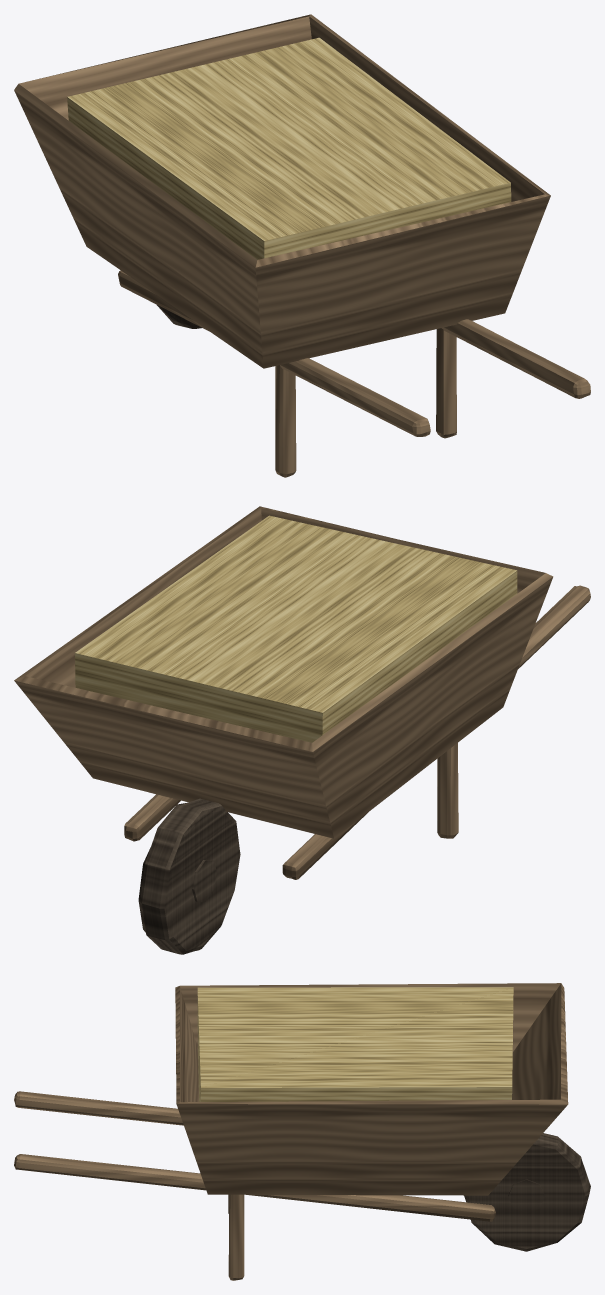
Rendered from wheelbarrow_loaded.glb.
3 renders of one model, top to bottom at view 1: azimuth 30°, elevation 25°; view 2: azimuth 150°, elevation 25°; view 3: azimuth 270°, elevation 25°, orthographic. The views are drawn at different scales.
Visible parts, largest first — view 1: WheelbarrowLoaded, HayFill; view 2: WheelbarrowLoaded, HayFill, Wheel_L1; view 3: WheelbarrowLoaded, HayFill, Wheel_L1.
Boxes of the visible parts, x1,y1,x2,y2 form: WheelbarrowLoaded: (14,14,590,477); HayFill: (67,37,511,259); WheelbarrowLoaded: (14,506,590,879); HayFill: (75,515,517,742); Wheel_L1: (138,798,240,954); WheelbarrowLoaded: (14,983,568,1280); HayFill: (197,987,513,1101); Wheel_L1: (464,1133,590,1251).
Size of the model in its own units: 0.7484 by 0.6268 by 1.55.
3 materials, 3 textured.
